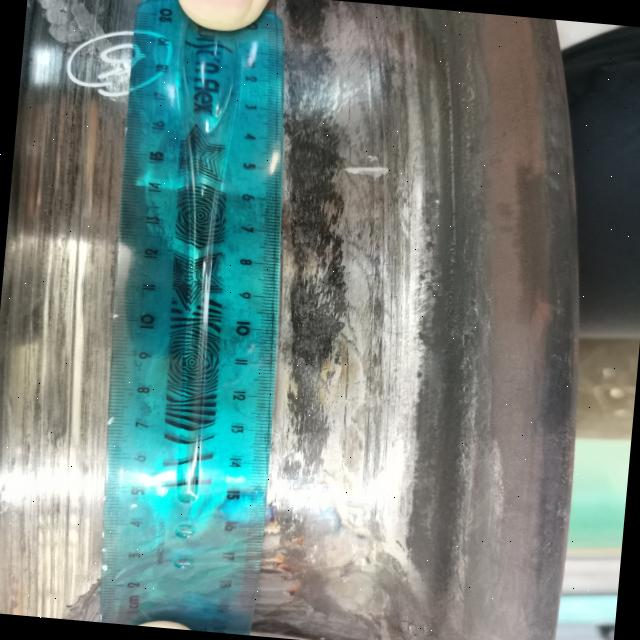Brake_Thermal_Cracks: (280, 325, 404, 345), (286, 283, 375, 307), (287, 214, 363, 235), (270, 475, 335, 494), (282, 394, 350, 412), (279, 359, 346, 376), (282, 376, 348, 393), (287, 273, 358, 288), (292, 180, 351, 198), (286, 312, 354, 327), (286, 260, 342, 274), (287, 128, 339, 143), (285, 112, 336, 127)
